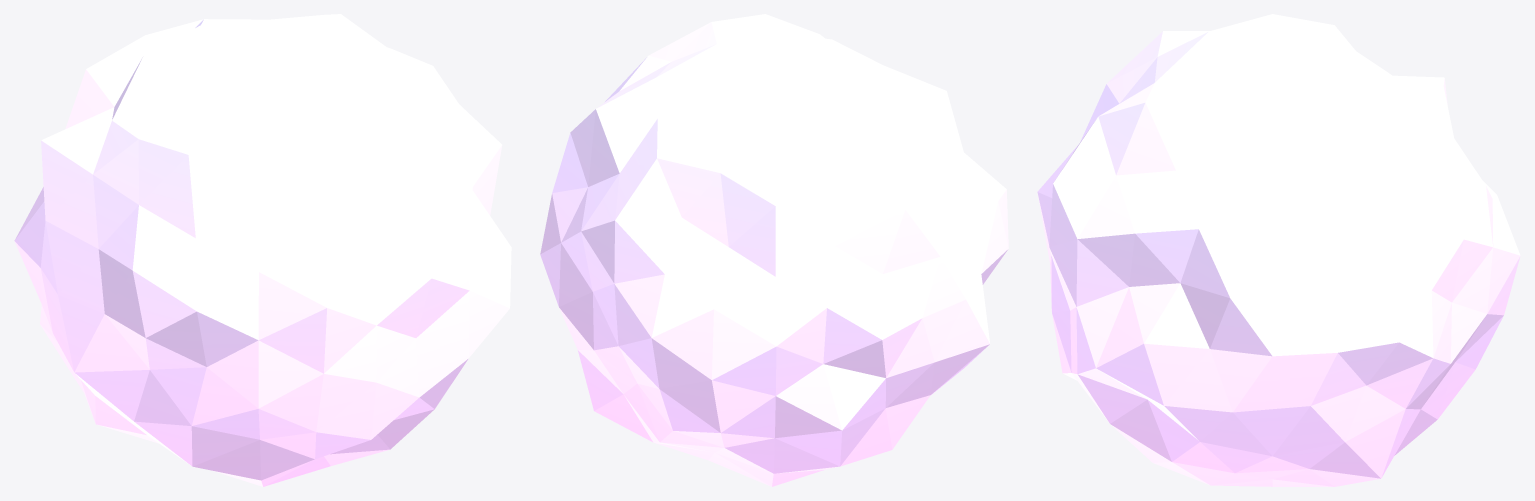
Rendered from kira.glb.
The picture shows the model from 3 angles, left to right: view 1: azimuth 30°, elevation 25°; view 2: azimuth 150°, elevation 25°; view 3: azimuth 270°, elevation 25°; orthographic projection. The views are drawn at different scales.
Parts seen in each view (by area): view 1: outer_kira; view 2: outer_kira; view 3: outer_kira.
Part boxes in pixels (x1,y1,x2,y2): outer_kira: [14, 14, 511, 486]; outer_kira: [540, 14, 1008, 486]; outer_kira: [1037, 14, 1520, 486].
Bounding box in the file's own units: 5.23 × 5.15 × 5.15.
